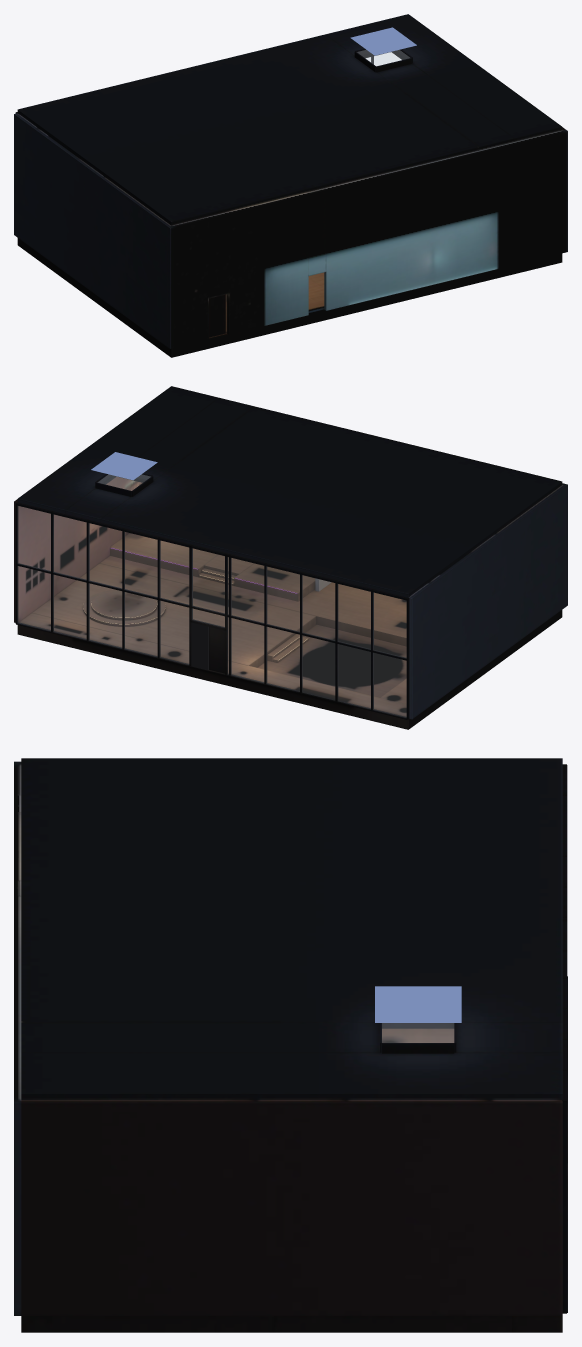
Rendered from shell.glb.
3 views of the same model, one above another, from view 1: azimuth 30°, elevation 25°; view 2: azimuth 150°, elevation 25°; view 3: azimuth 270°, elevation 25° (orthographic). The views are drawn at different scales.
Parts seen in each view (by area): view 1: shell_baked, skylight_sky, skylight_glass; view 2: shell_baked, window_glass_w, window_glass_e, window_glass_door_top, skylight_sky, slider_slide_frame, skylight_glass; view 3: shell_baked, skylight_sky, skylight_glass.
Boxes of the visible parts, x1,y1,x2,y2 form: shell_baked: (14,14,567,357); skylight_sky: (350,27,416,55); skylight_glass: (357,50,409,65); shell_baked: (14,386,567,729); window_glass_w: (228,557,406,717); window_glass_e: (18,506,188,664); window_glass_door_top: (192,548,224,627); skylight_sky: (91,452,157,480); slider_slide_frame: (191,622,208,670); skylight_glass: (98,475,149,490); shell_baked: (14,758,567,1332); skylight_sky: (375,986,461,1022); skylight_glass: (382,1023,453,1042).
Size of the model in its own units: 22.4 by 8.35 by 15.35.
8 materials, 1 textured.
